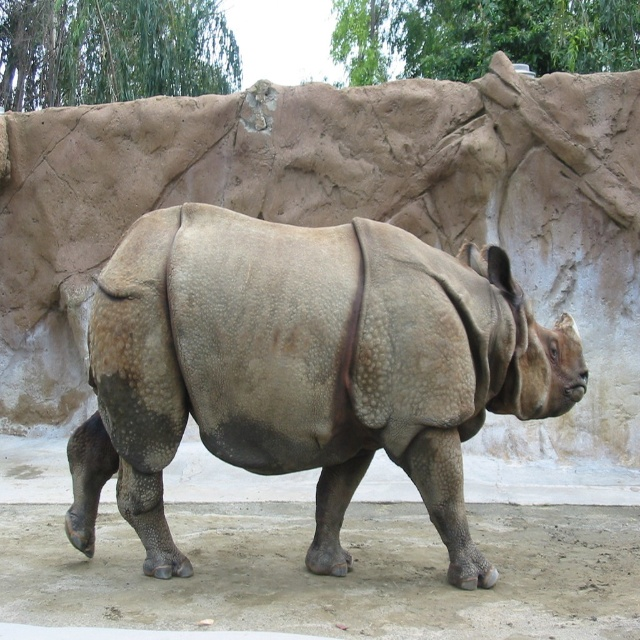Rhinoceros: (58, 210, 594, 581)
